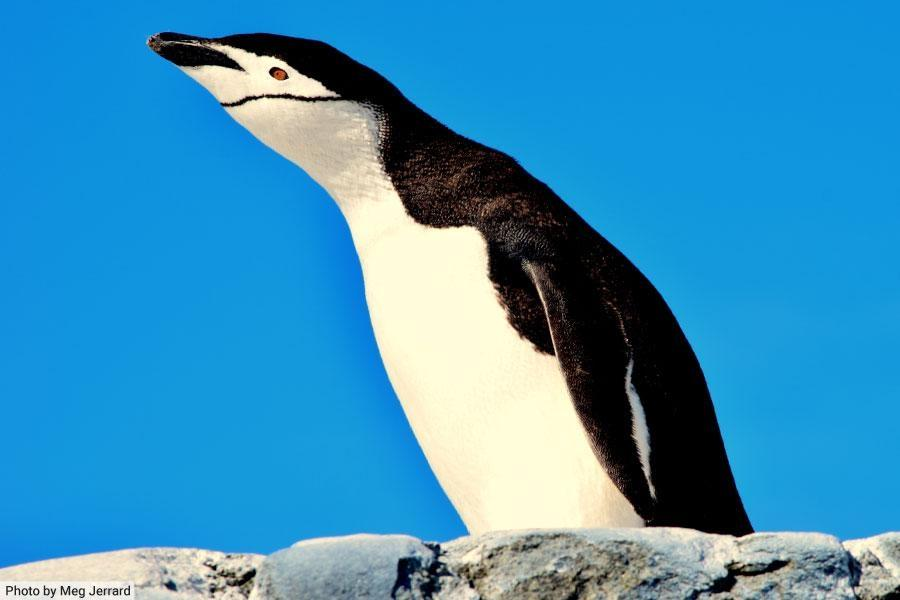Penguin: (148, 32, 752, 535)
